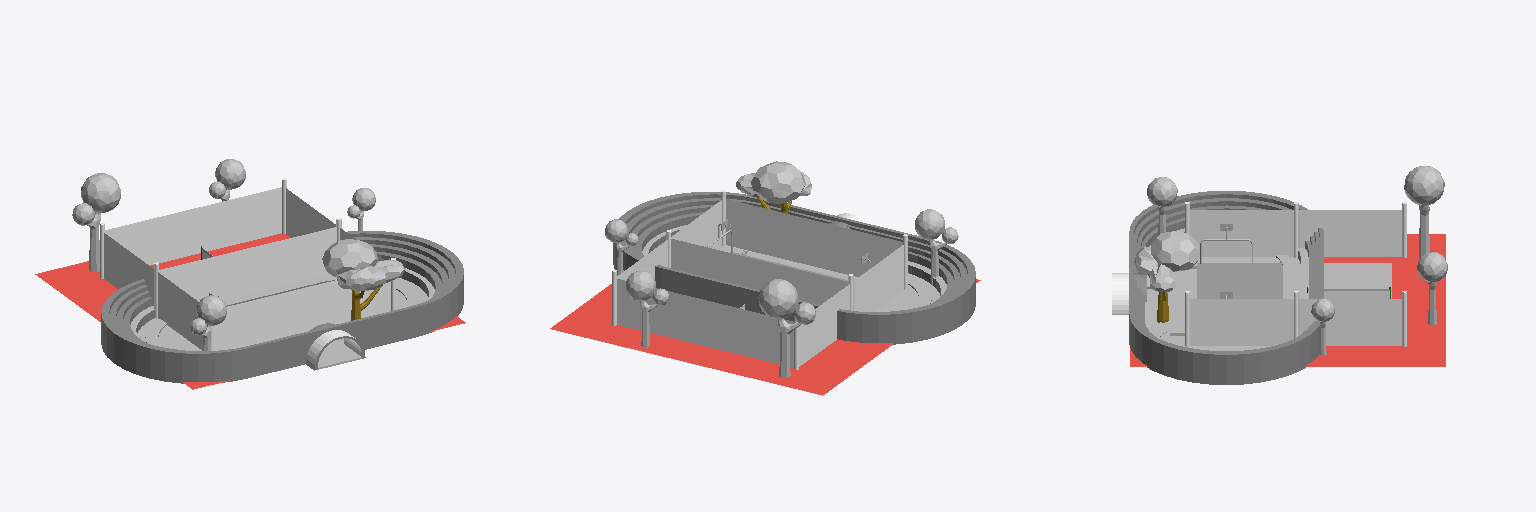
File: sport.obj
3 renders of one model, left to right at view 1: azimuth 30°, elevation 25°; view 2: azimuth 150°, elevation 25°; view 3: azimuth 270°, elevation 25°, orthographic.
Visible parts, largest first — view 1: Boole.2, Cube_1, Cube_2, Cube_3, Cube, Plane, Platonic, Icosphere_Icosphere_002_2, Boole, Platonic.1, Icosphere_Icosphere_002_1, Icosphere_Icosphere_002_3 (+1 smaller); view 2: Boole.2, Plane, Cube_3, Cube_1, Cube, Cube_2, Platonic, Icosphere_Icosphere_002_2, Icosphere_Icosphere_002_3, Icosphere_Icosphere_002_1, Cylinder_014_2; view 3: Cube, Boole.2, Plane, Plane_1, Plane.1, Platonic, Icosphere_Icosphere_002_2, Boole, Icosphere_Icosphere_002_1, Icosphere_Icosphere_002_3, Platonic.2, Cylinder_1 (+1 smaller).
Boxes of the visible parts, x1,y1,x2,y2 form: Boole.2: [101, 231, 463, 383]; Cube_1: [105, 187, 281, 265]; Cube_2: [159, 227, 336, 301]; Cube_3: [214, 280, 390, 350]; Cube: [104, 188, 383, 350]; Plane: [35, 233, 465, 389]; Platonic: [322, 239, 377, 276]; Icosphere_Icosphere_002_2: [81, 173, 120, 213]; Boole: [306, 323, 365, 370]; Platonic.1: [337, 266, 385, 290]; Icosphere_Icosphere_002_1: [215, 159, 245, 189]; Icosphere_Icosphere_002_3: [196, 295, 226, 325]; Boole.2: [613, 192, 975, 344]; Plane: [550, 279, 980, 395]; Cube_3: [726, 199, 902, 276]; Cube_1: [617, 279, 793, 367]; Cube: [617, 200, 903, 366]; Cube_2: [671, 239, 847, 304]; Platonic: [751, 161, 805, 203]; Icosphere_Icosphere_002_2: [758, 279, 798, 319]; Icosphere_Icosphere_002_3: [915, 209, 944, 239]; Icosphere_Icosphere_002_1: [626, 270, 655, 300]; Cylinder_014_2: [778, 319, 800, 377]; Cube: [1190, 210, 1401, 345]; Boole.2: [1112, 191, 1323, 384]; Plane: [1130, 234, 1445, 366]; Plane_1: [1197, 263, 1282, 298]; Plane.1: [1324, 263, 1391, 298]; Platonic: [1151, 231, 1199, 271]; Icosphere_Icosphere_002_2: [1404, 166, 1444, 204]; Boole: [1112, 273, 1146, 313]; Icosphere_Icosphere_002_1: [1417, 252, 1447, 281]; Icosphere_Icosphere_002_3: [1147, 177, 1177, 206]; Platonic.2: [1150, 264, 1175, 292]; Cylinder_1: [1402, 202, 1406, 346].
Size of the model in its own units: 493 by 135 by 426.